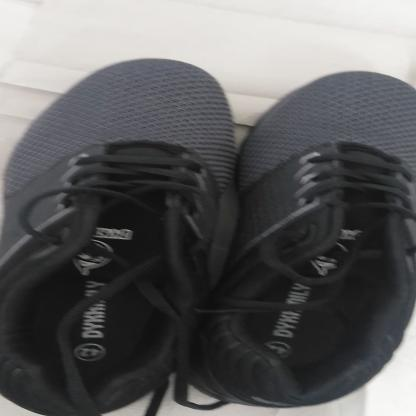safety-shoe: (1, 54, 416, 416)
